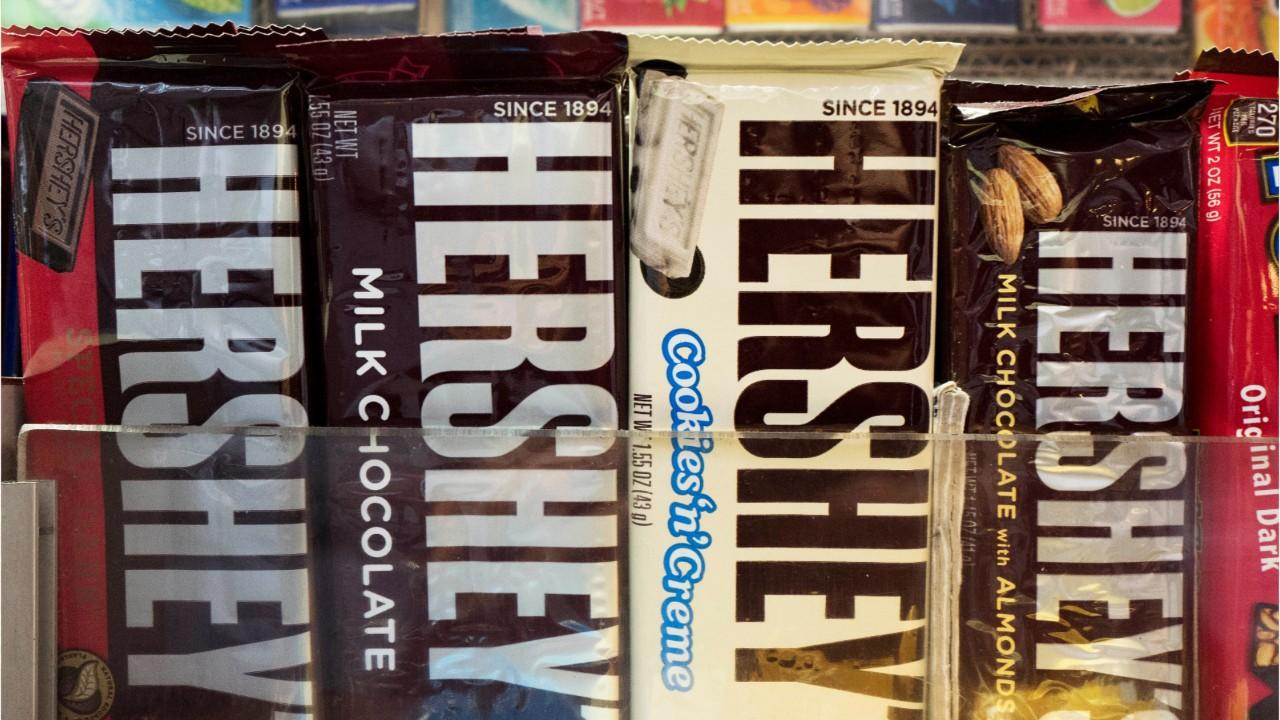hershey: (294, 46, 625, 718)
